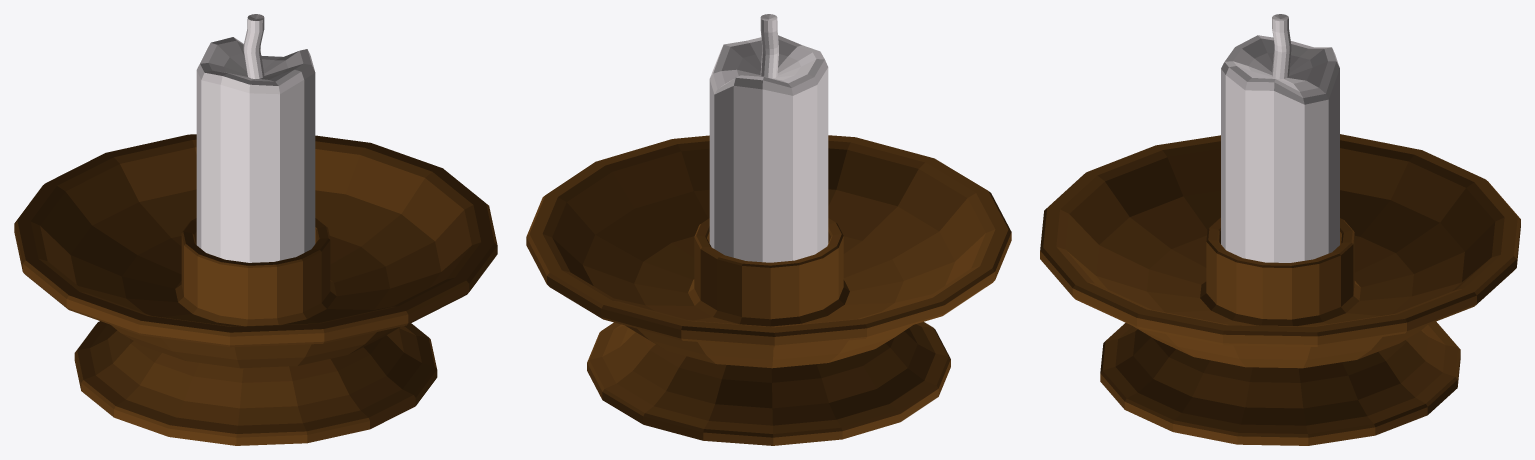
File: Candle Holder 3.fbx
The picture shows the model from 3 angles, left to right: view 1: azimuth 30°, elevation 25°; view 2: azimuth 150°, elevation 25°; view 3: azimuth 270°, elevation 25°; orthographic projection.
Parts seen in each view (by area): view 1: Node 0; view 2: Node 0; view 3: Node 0.
Boxes of the visible parts, x1=… form: Node 0: x1=14, y1=14, x2=497, y2=445; Node 0: x1=526, y1=14, x2=1011, y2=445; Node 0: x1=1040, y1=14, x2=1520, y2=445.
Bounding box in the file's own units: 0.2322 × 0.1878 × 0.2322.
